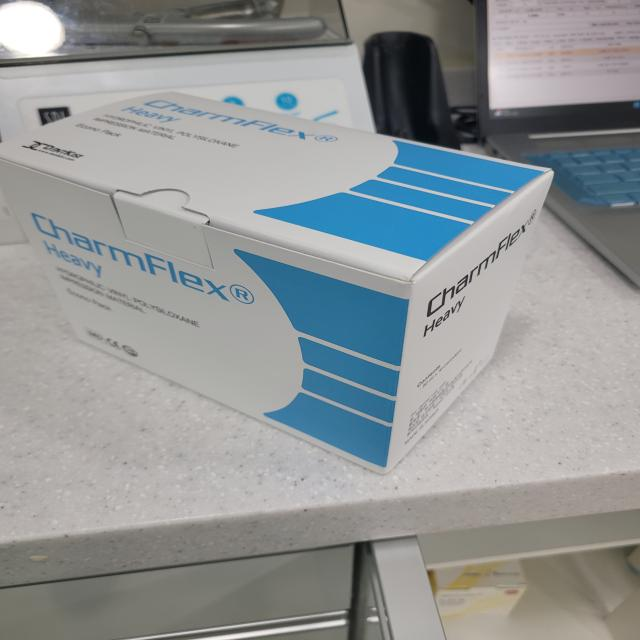impression: (3, 86, 605, 489)
